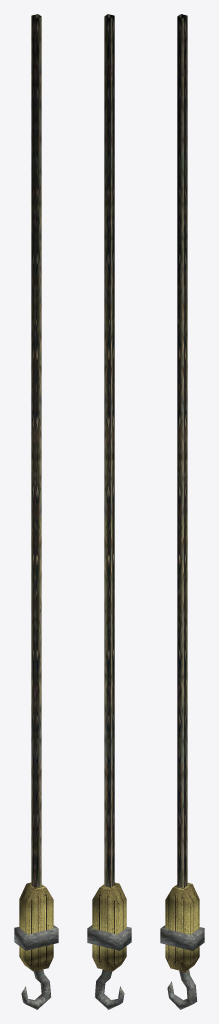
Rendered from LoadingHook.glb.
3 renders of one model, left to right at view 1: azimuth 30°, elevation 25°; view 2: azimuth 150°, elevation 25°; view 3: azimuth 330°, elevation 25°, orthographic.
Parts seen in each view (by area): view 1: Cube; view 2: Cube; view 3: Cube.
Boxes of the visible parts, left/top/right/bottom form: Cube: left=14, top=14, right=58, bottom=1009; Cube: left=87, top=14, right=131, bottom=1009; Cube: left=160, top=14, right=204, bottom=1009.
Bounding box in the file's own units: 1.19 × 34.64 × 0.7505.
2 materials, 2 textured.
